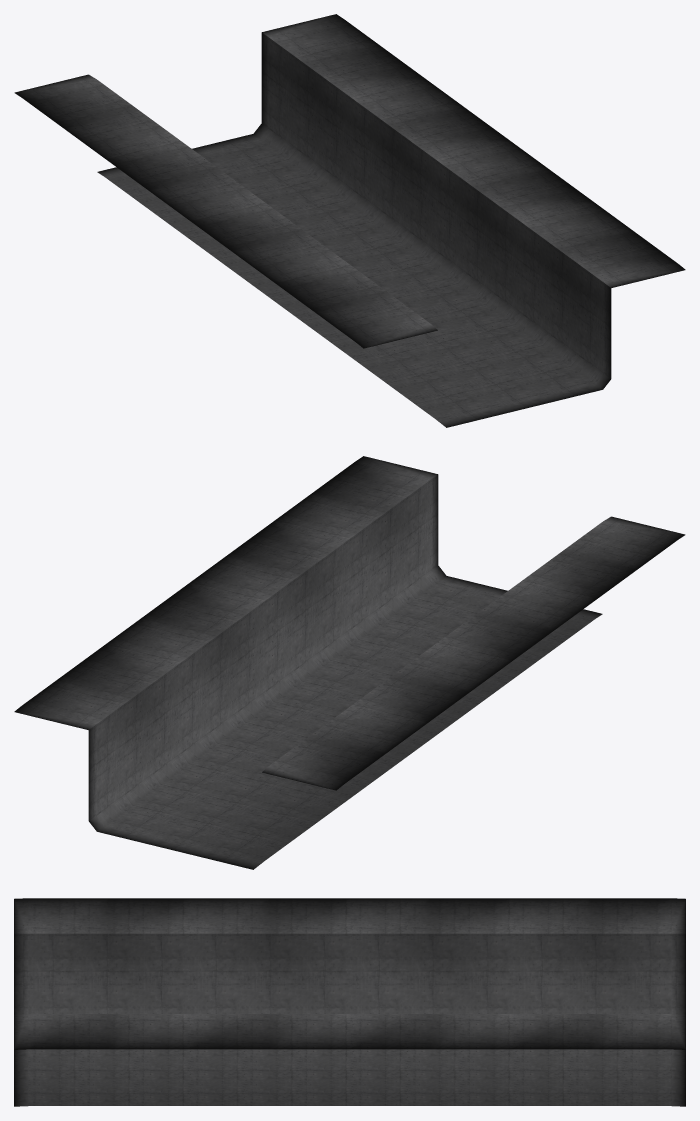
File: AMB_RAIL_WAKU.glb
3 renders of one model, top to bottom at view 1: azimuth 30°, elevation 25°; view 2: azimuth 150°, elevation 25°; view 3: azimuth 270°, elevation 25°, orthographic. The views are drawn at different scales.
Visible parts, largest first — view 1: BASE; view 2: BASE; view 3: BASE.
Part boxes in pixels (bbox=[...]): BASE: bbox=[14, 14, 685, 427]; BASE: bbox=[14, 456, 685, 869]; BASE: bbox=[14, 898, 685, 1106].
Size of the model in its own units: 55.61 by 16.51 by 104.
Materials: 1 (1 with a texture image).
